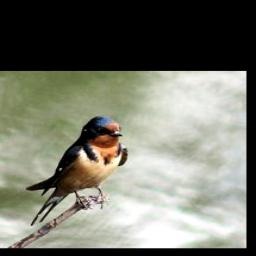Swallow: (30, 114, 131, 227)
